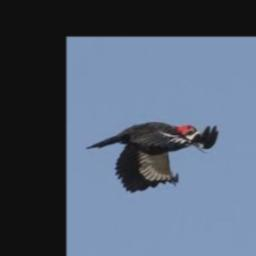Woodpecker: (85, 121, 218, 193)
